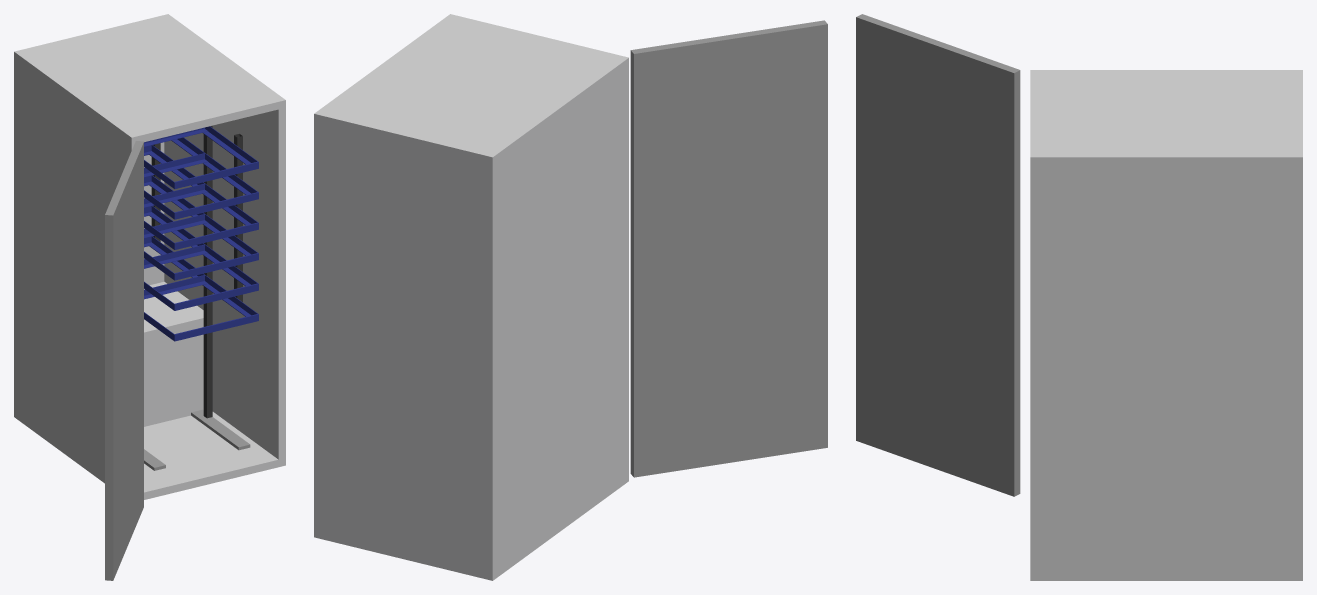
File: upgraded_incubator_.fbx
3 views of the same model, side by side, from view 1: azimuth 30°, elevation 25°; view 2: azimuth 150°, elevation 25°; view 3: azimuth 270°, elevation 25° (orthographic). The views are drawn at different scales.
Parts seen in each view (by area): view 1: Body1 (×11); view 2: Body1 (×2); view 3: Body1 (×2).
Boxes of the visible parts, left/top/right/bottom form: Body1 (×11): left=14, top=14, right=285, bottom=580; Body1 (×2): left=314, top=14, right=827, bottom=580; Body1 (×2): left=856, top=14, right=1302, bottom=580.
Size of the model in its own units: 871 by 1200 by 1147.
